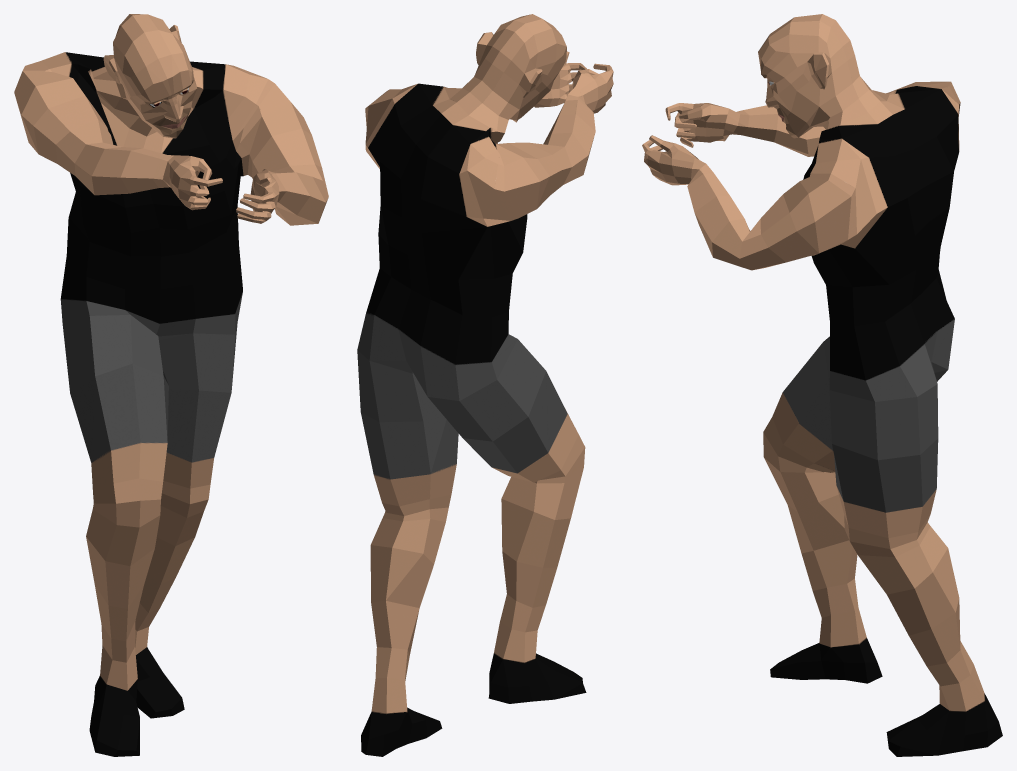
The model's file is PlayerWalk(12).obj.
3 renders of one model, left to right at view 1: azimuth 30°, elevation 25°; view 2: azimuth 150°, elevation 25°; view 3: azimuth 270°, elevation 25°, orthographic. The views are drawn at different scales.
Visible parts, largest first — view 1: Plane002; view 2: Plane002; view 3: Plane002.
Part boxes in pixels (x1,y1,x2,y2): Plane002: (14,14,328,756); Plane002: (357,14,613,756); Plane002: (642,14,1002,756).
Bounding box in the file's own units: 560 × 1729 × 807.
